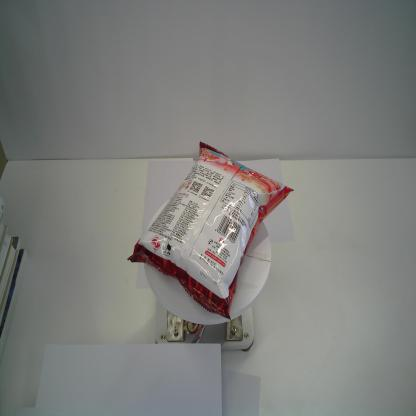Puffed Food: (127, 140, 294, 321)
